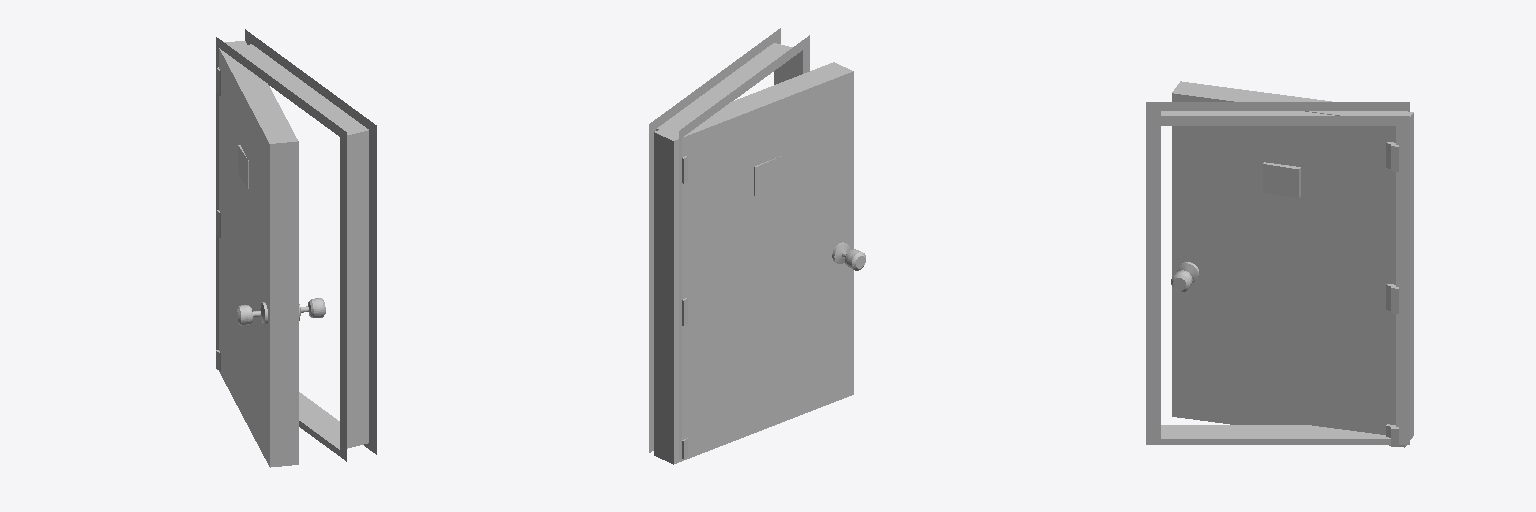
File: Door_7_Open8.obj
3 renders of one model, left to right at view 1: azimuth 30°, elevation 25°; view 2: azimuth 150°, elevation 25°; view 3: azimuth 270°, elevation 25°, orthographic.
Visible parts, largest first — view 1: Door.003, Frame_Door.006; view 2: Door.003, Frame_Door.006; view 3: Door.003, Frame_Door.006.
Part boxes in pixels (left/top/right/bottom): Door.003: left=216, top=41, right=325, bottom=467; Frame_Door.006: left=216, top=29, right=376, bottom=461; Door.003: left=654, top=62, right=865, bottom=464; Frame_Door.006: left=649, top=28, right=809, bottom=459; Door.003: left=1171, top=81, right=1413, bottom=447; Frame_Door.006: left=1146, top=102, right=1409, bottom=446.
Bounding box in the file's own units: 0.4263 × 1.17 × 0.8545.